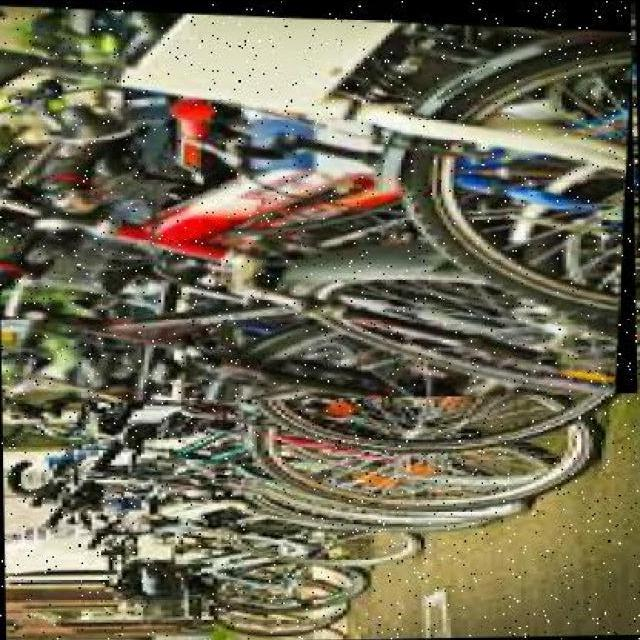bicycle: (1, 3, 639, 408)
